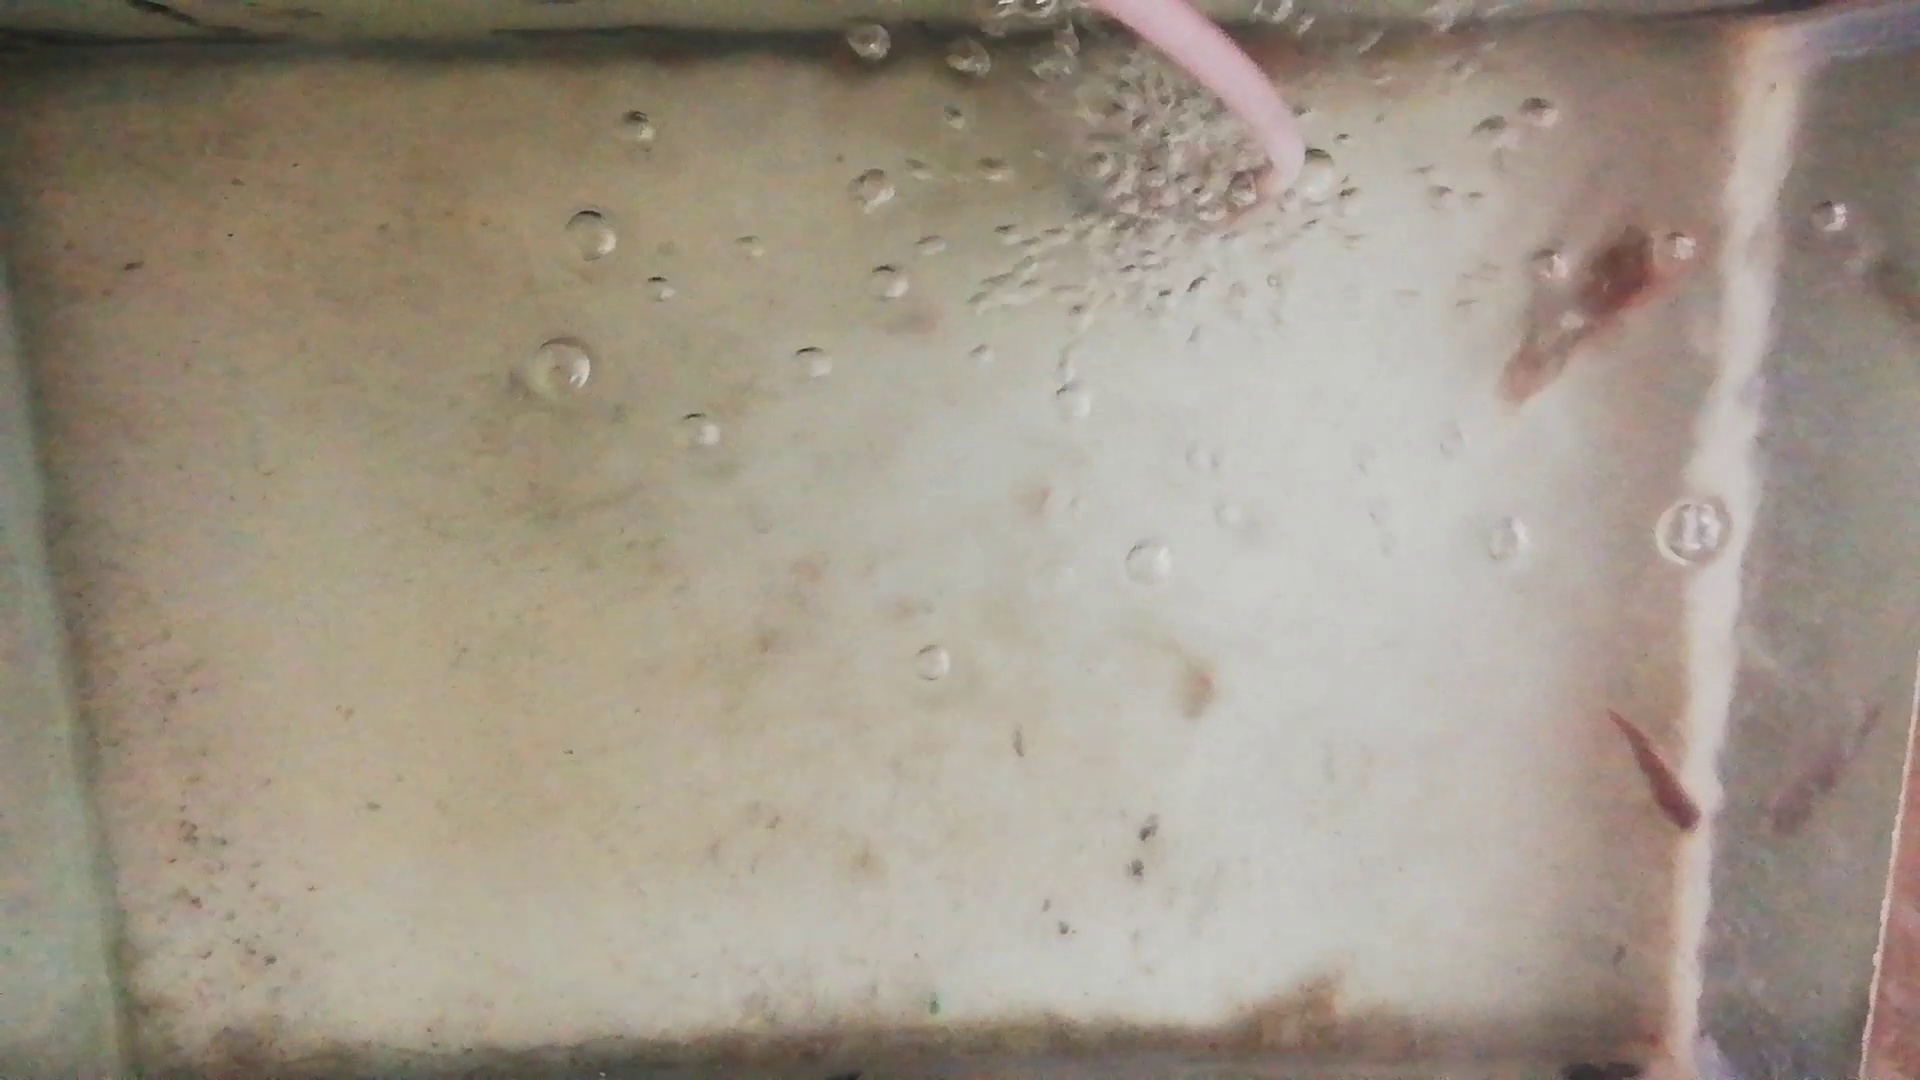fish: (1503, 225, 1680, 401), (1610, 709, 1701, 833)
